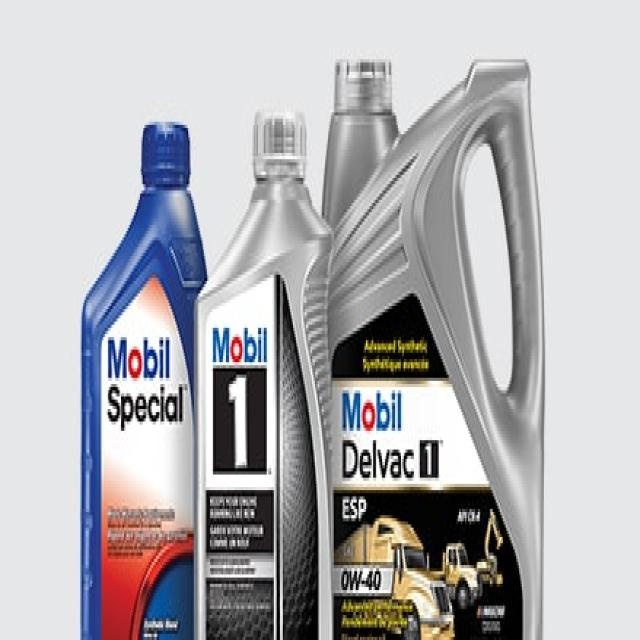motor_oil: (322, 60, 553, 640)
